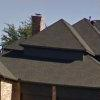Chimney: (25, 9, 46, 39)
